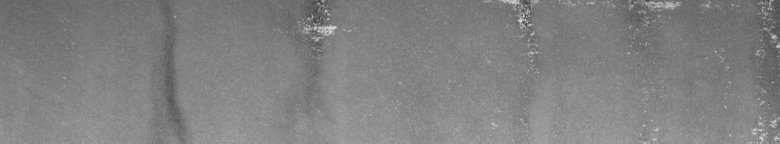hc: (292, 4, 356, 64)
